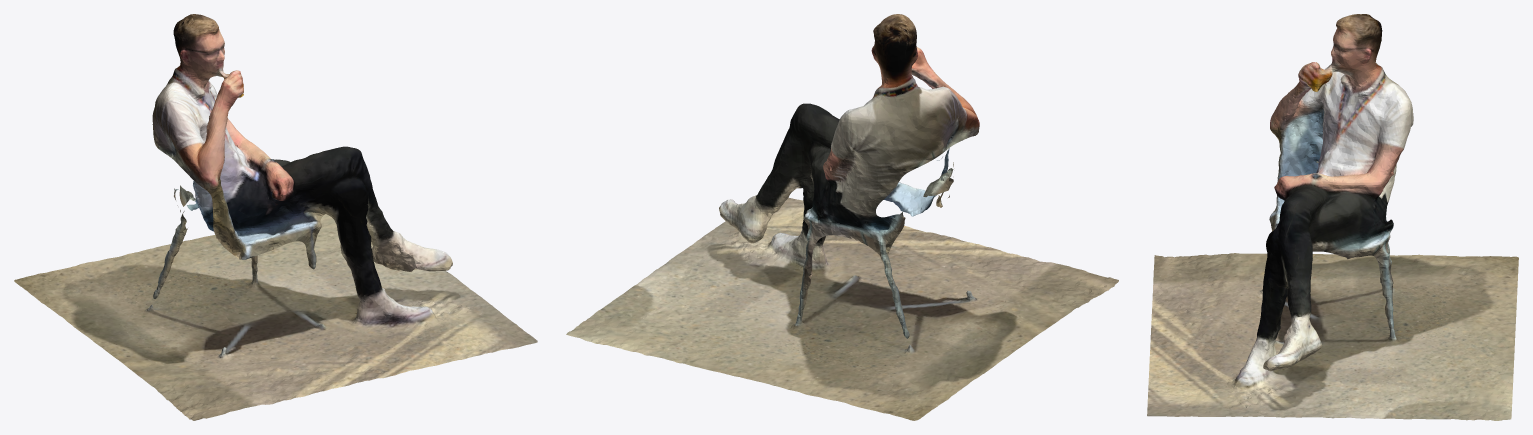
Rendered from mbo_friends_Peter.glb.
The picture shows the model from 3 angles, left to right: view 1: azimuth 30°, elevation 25°; view 2: azimuth 150°, elevation 25°; view 3: azimuth 270°, elevation 25°; orthographic projection. The views are drawn at different scales.
Size of the model in its own units: 1.59 by 1.32 by 1.52.
1 material, 1 textured.
